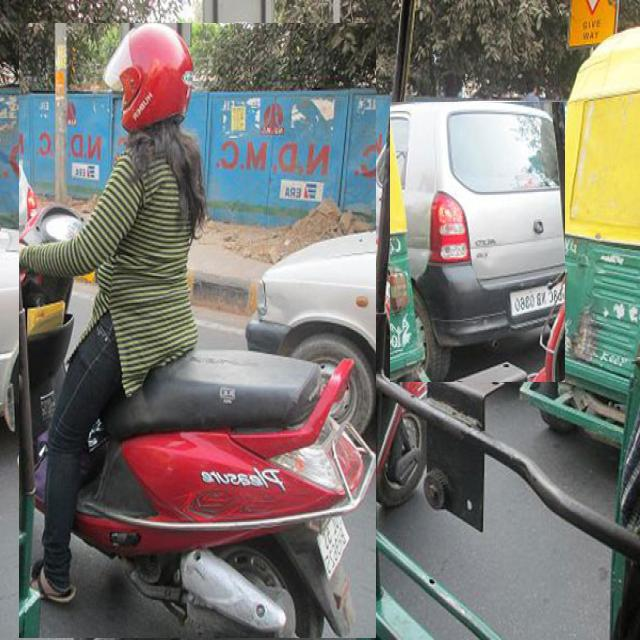car: (390, 102, 565, 382)
motorcycle: (19, 24, 376, 638)
